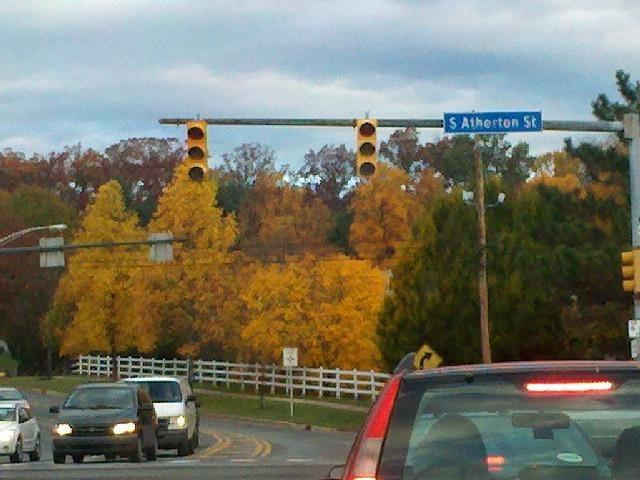car: (338, 354, 640, 480), (47, 384, 160, 466), (118, 376, 200, 456), (0, 400, 43, 464), (0, 387, 29, 403)
